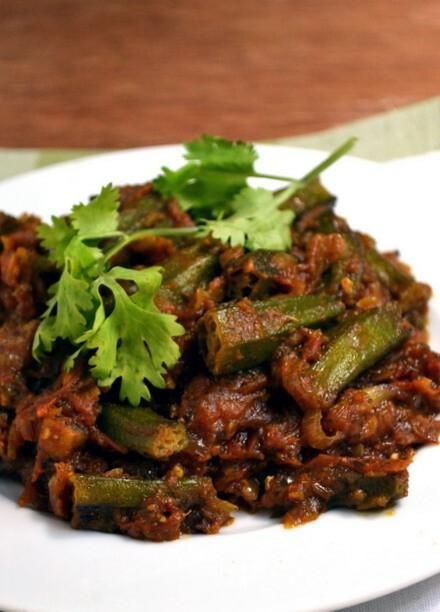BhindiMasala: (0, 174, 440, 544)
